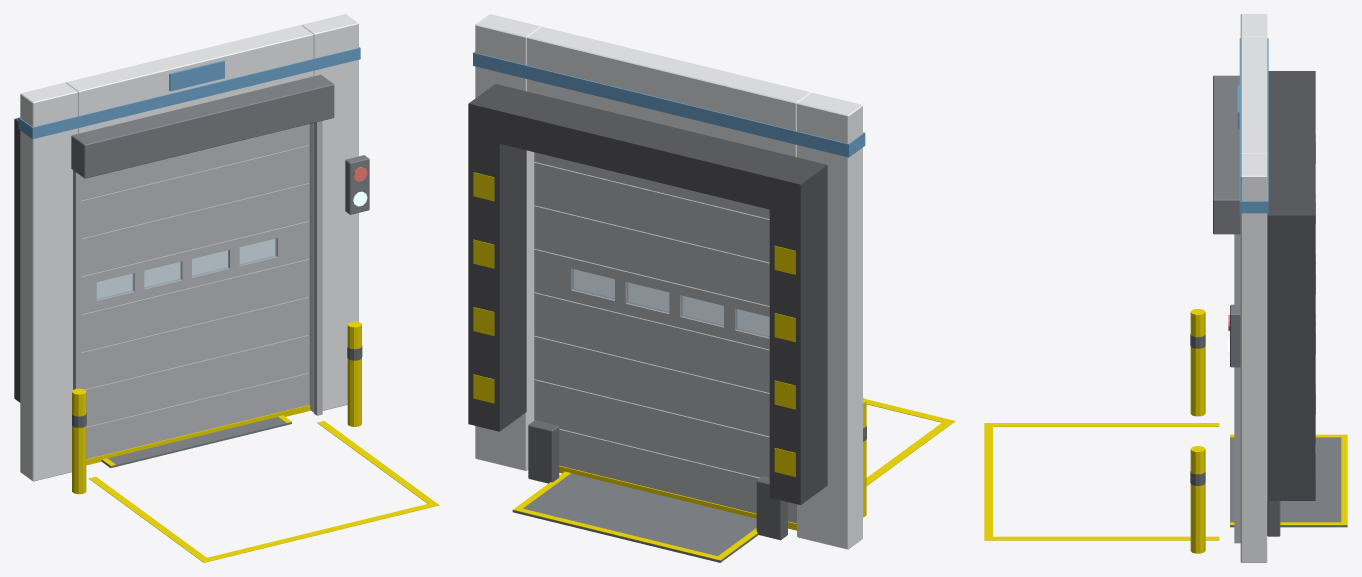
Rendered from doca_medio.glb.
The picture shows the model from 3 angles, left to right: view 1: azimuth 30°, elevation 25°; view 2: azimuth 150°, elevation 25°; view 3: azimuth 270°, elevation 25°; orthographic projection. The views are drawn at different scales.
Parts seen in each view (by area): view 1: parede, porta; view 2: parede, porta; view 3: parede.
Boxes of the visible parts, x1,y1,x2,y2 form: parede: [14, 14, 439, 562]; porta: [81, 124, 310, 465]; parede: [468, 14, 955, 562]; porta: [534, 152, 796, 530]; parede: [984, 14, 1347, 562].
Bounding box in the file's own units: 3.67 × 4 × 3.4.
